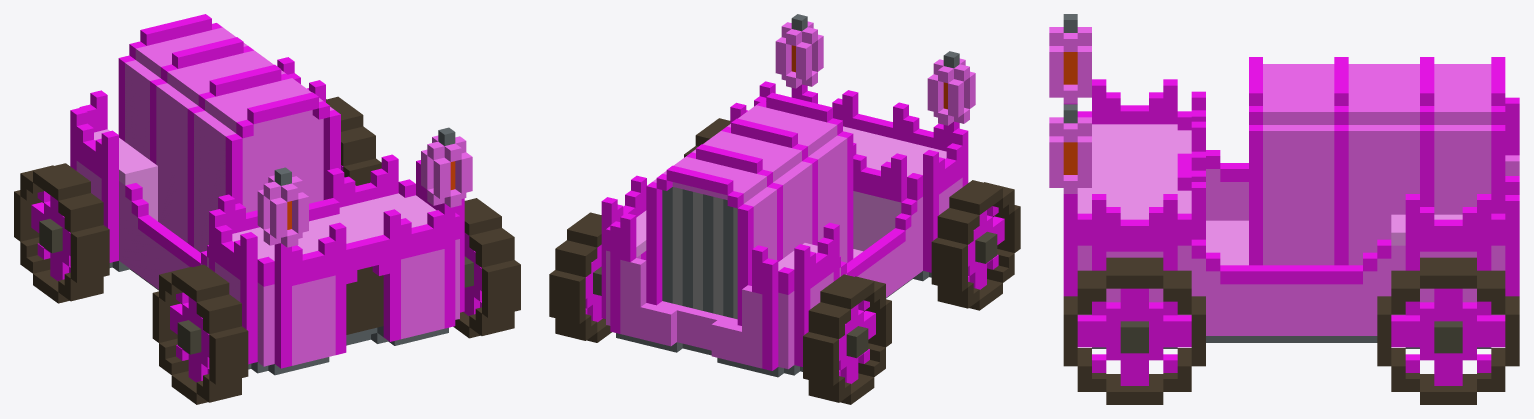
The model's file is truck.obj.
3 views of the same model, side by side, from view 1: azimuth 30°, elevation 25°; view 2: azimuth 150°, elevation 25°; view 3: azimuth 270°, elevation 25° (orthographic). The views are drawn at different scales.
Size of the model in its own units: 2.8 by 2 by 3.3.
Materials: 1 (1 with a texture image).
